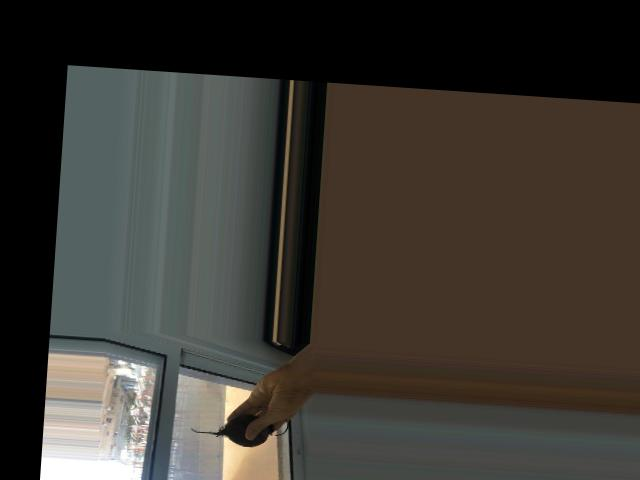beet: (189, 401, 289, 449)
